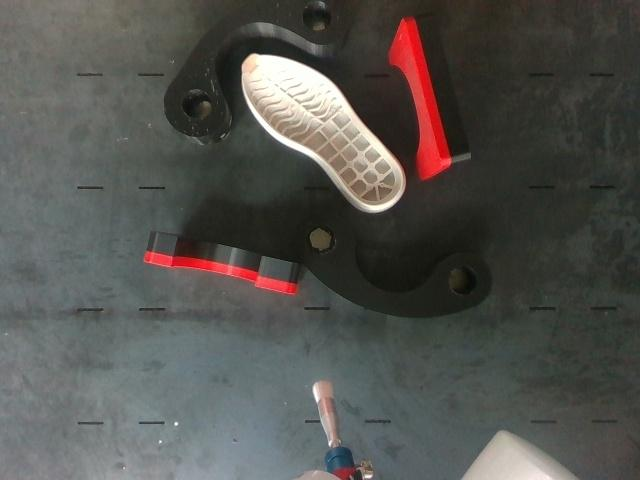shoes: (242, 56, 404, 206)
